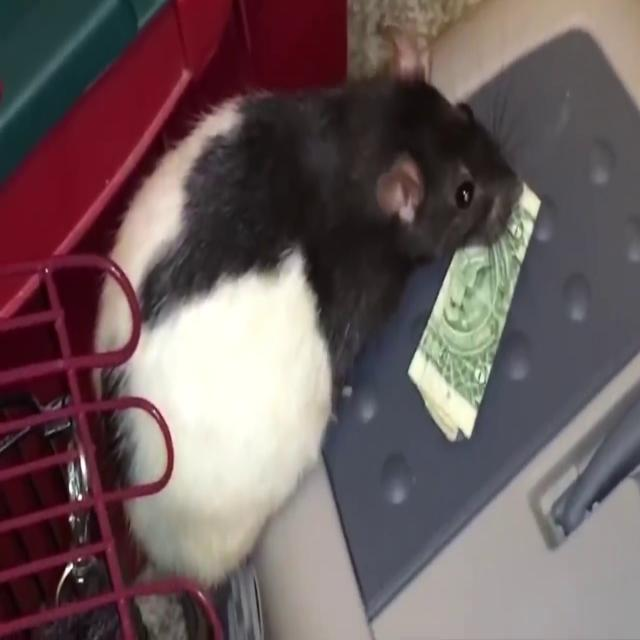rat: (98, 41, 523, 551)
